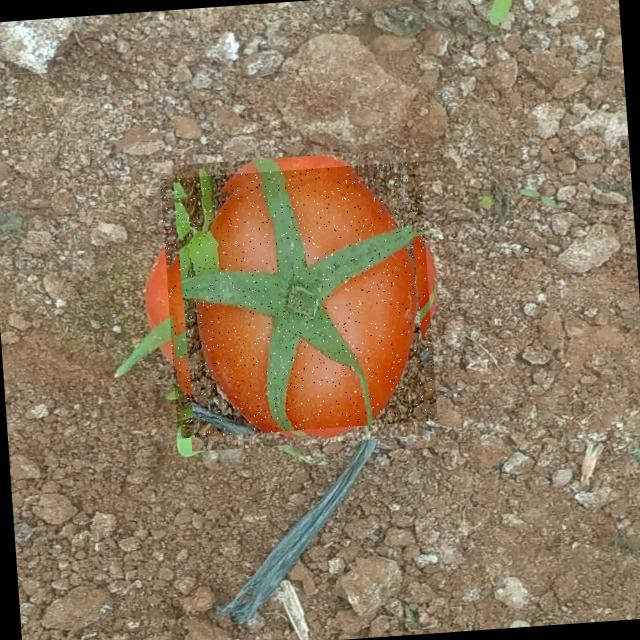Ripe Tomato: (160, 160, 438, 438)
